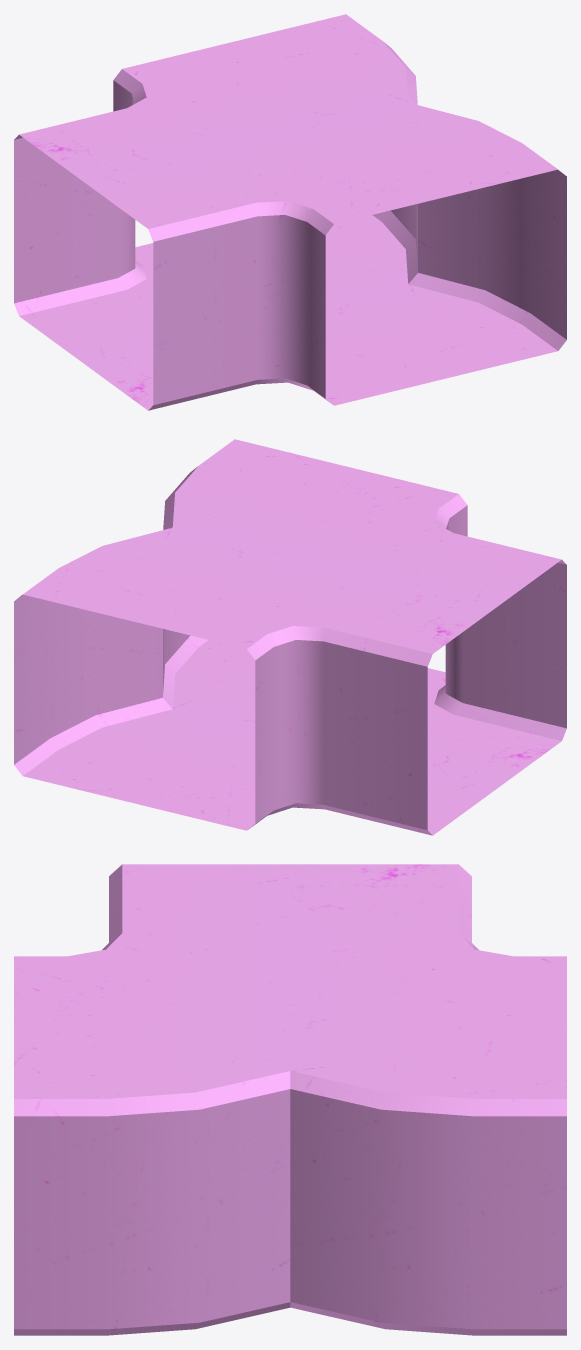
The model's file is AirDuctTSection_01_SM_Low.fbx.
3 views of the same model, one above another, from view 1: azimuth 30°, elevation 25°; view 2: azimuth 150°, elevation 25°; view 3: azimuth 270°, elevation 25° (orthographic). The views are drawn at different scales.
Visible parts, largest first — view 1: TSection; view 2: TSection; view 3: TSection.
Boxes of the visible parts, bbox=[...] form: TSection: bbox=[14, 14, 566, 410]; TSection: bbox=[14, 439, 566, 835]; TSection: bbox=[14, 864, 566, 1335].
Bounding box in the file's own units: 139 × 64 × 136.
1 material, 1 textured.
